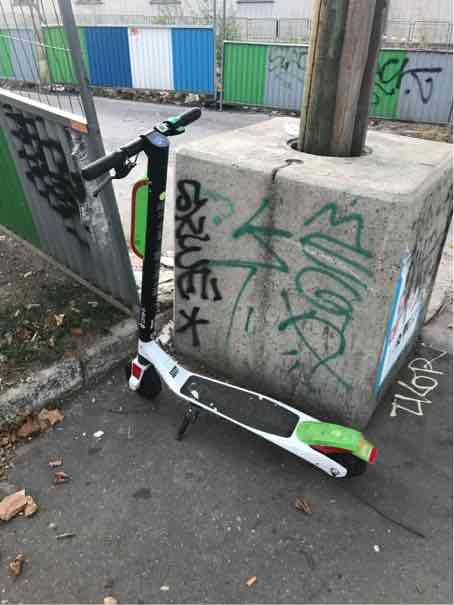scooter: (72, 92, 373, 489)
